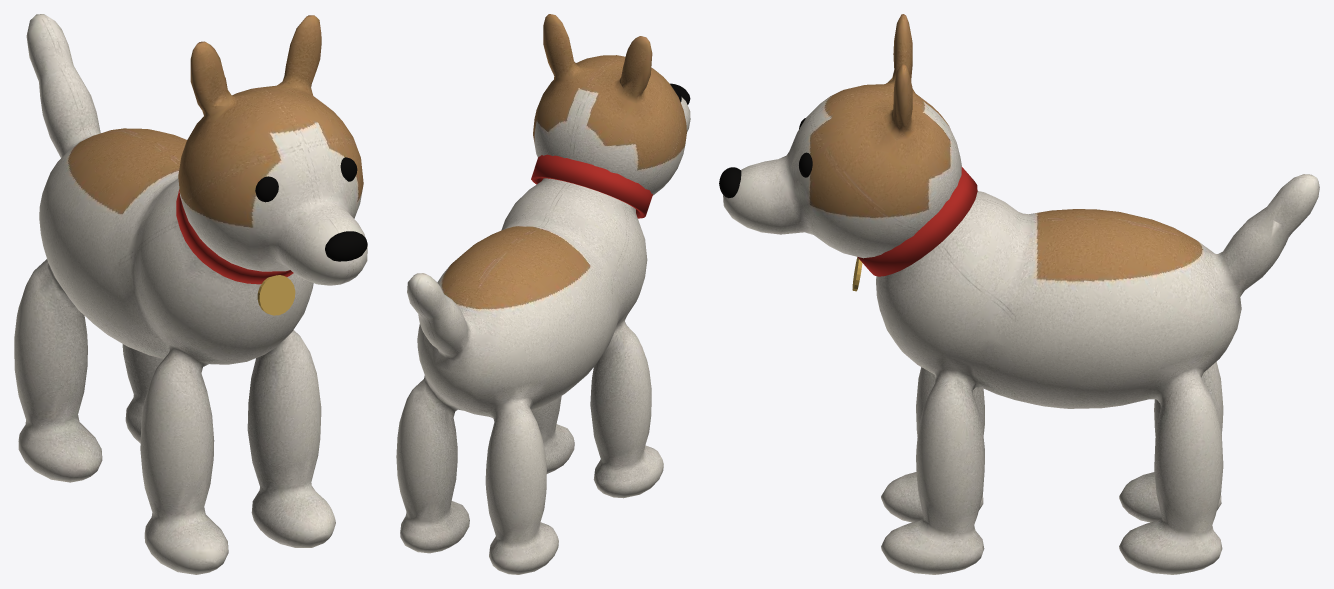
Rendered from laika-plush.glb.
3 renders of one model, left to right at view 1: azimuth 30°, elevation 25°; view 2: azimuth 150°, elevation 25°; view 3: azimuth 270°, elevation 25°, orthographic. The views are drawn at different scales.
Parts seen in each view (by area): view 1: laika-plush; view 2: laika-plush; view 3: laika-plush.
Boxes of the visible parts, x1=… form: laika-plush: x1=14, y1=14, x2=367, y2=574; laika-plush: x1=396, y1=14, x2=690, y2=574; laika-plush: x1=719, y1=14, x2=1319, y2=574.
Size of the model in its own units: 0.0895 by 0.2574 by 0.2776.
Materials: 4 (1 with a texture image).
